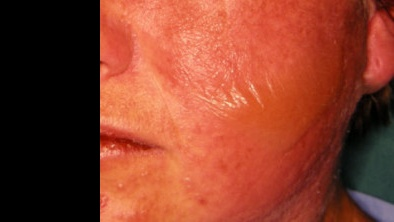SJS-TEN: (101, 0, 380, 221)
